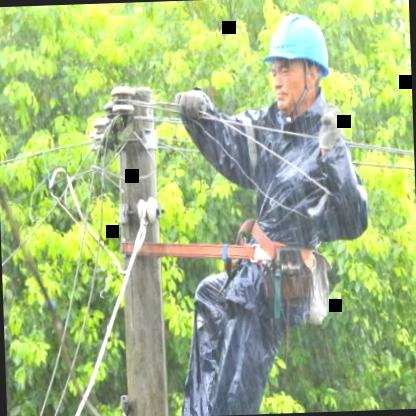helmet: (256, 4, 336, 123)
